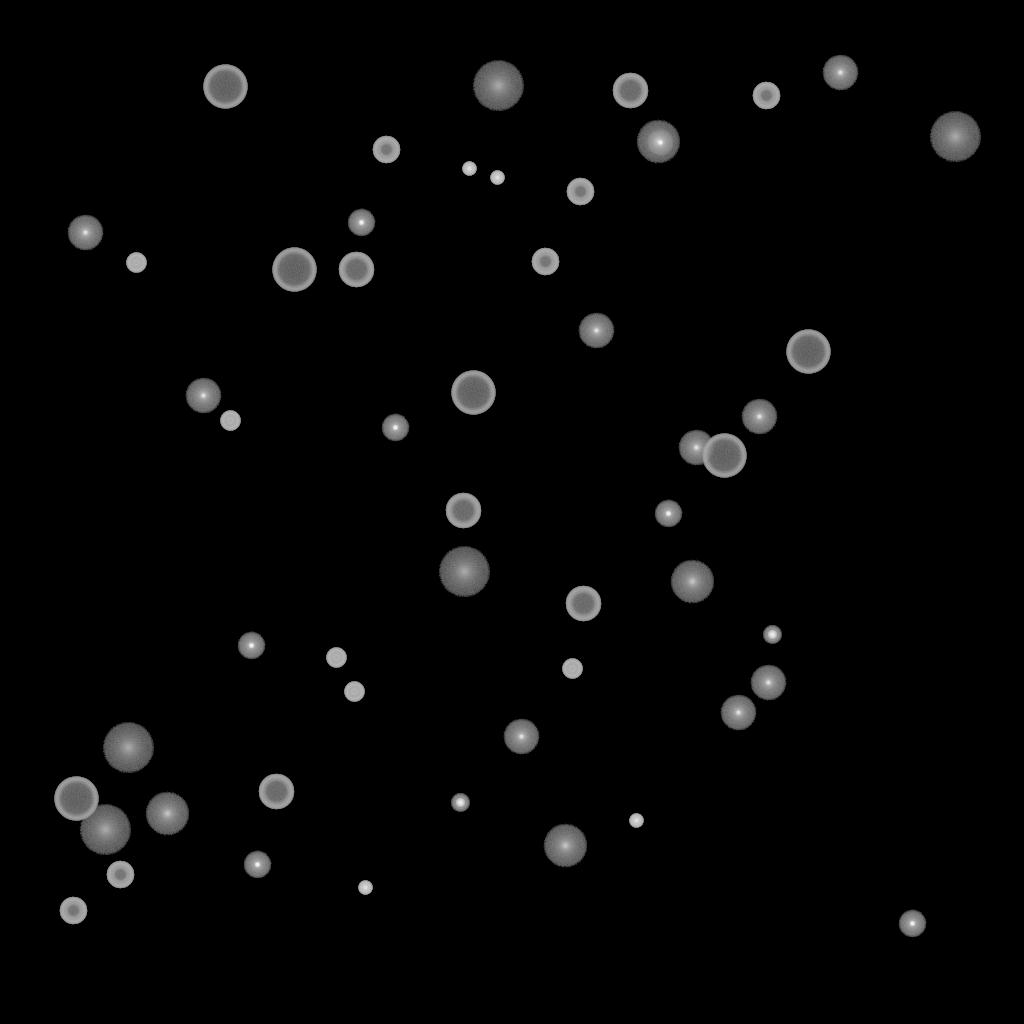depth:-10: (237, 632, 265, 660), (347, 209, 375, 237), (654, 500, 682, 528), (646, 129, 674, 157), (381, 414, 409, 442), (898, 910, 926, 938), (243, 851, 271, 879)
depth:-20: (451, 794, 469, 812), (763, 626, 781, 644)
depth:-30: (490, 171, 504, 185), (358, 881, 372, 895), (462, 162, 476, 176), (629, 814, 643, 828)
depth:-40: (220, 411, 240, 431), (326, 648, 346, 668), (562, 659, 582, 679), (344, 682, 364, 702), (126, 253, 146, 273)
depth:-50: (372, 136, 400, 164), (566, 178, 594, 206), (59, 897, 87, 925), (531, 248, 559, 276), (752, 82, 780, 110), (106, 861, 134, 889)
depth:-60: (338, 252, 374, 288), (445, 493, 481, 529), (612, 73, 648, 109), (258, 774, 294, 810), (565, 586, 601, 622)
depth:-70: (786, 330, 830, 374), (451, 371, 495, 415), (272, 248, 316, 292), (702, 434, 746, 478), (54, 777, 98, 821), (203, 65, 247, 109)
depth:0: (185, 378, 221, 414), (578, 313, 614, 349), (750, 665, 786, 701), (822, 55, 858, 91), (741, 399, 777, 435), (67, 215, 103, 251), (678, 430, 714, 466), (503, 719, 539, 755), (720, 695, 756, 731)
depth:10: (636, 120, 680, 164), (543, 824, 587, 868), (145, 792, 189, 836), (670, 560, 714, 604)
depth:20: (472, 61, 524, 111), (929, 112, 981, 162), (438, 547, 490, 597), (102, 723, 154, 773), (79, 805, 131, 855)
